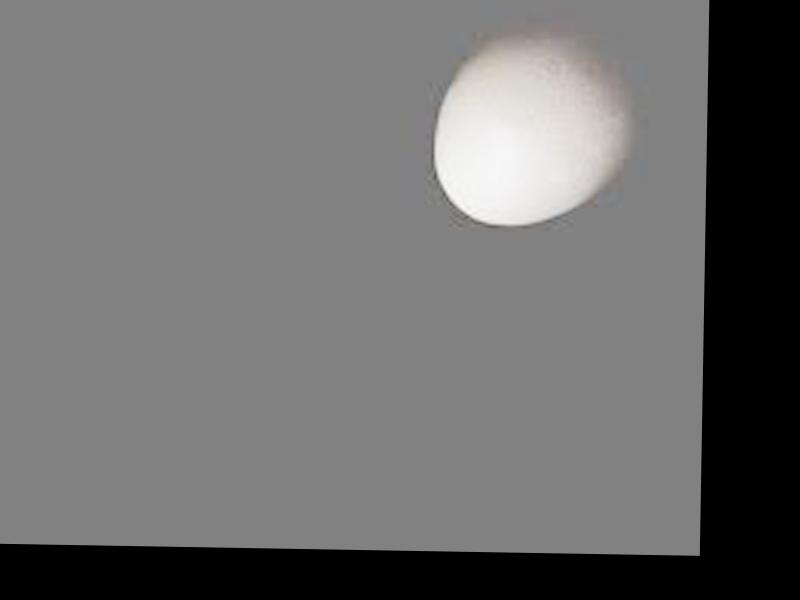Eggs: (434, 28, 641, 229)
